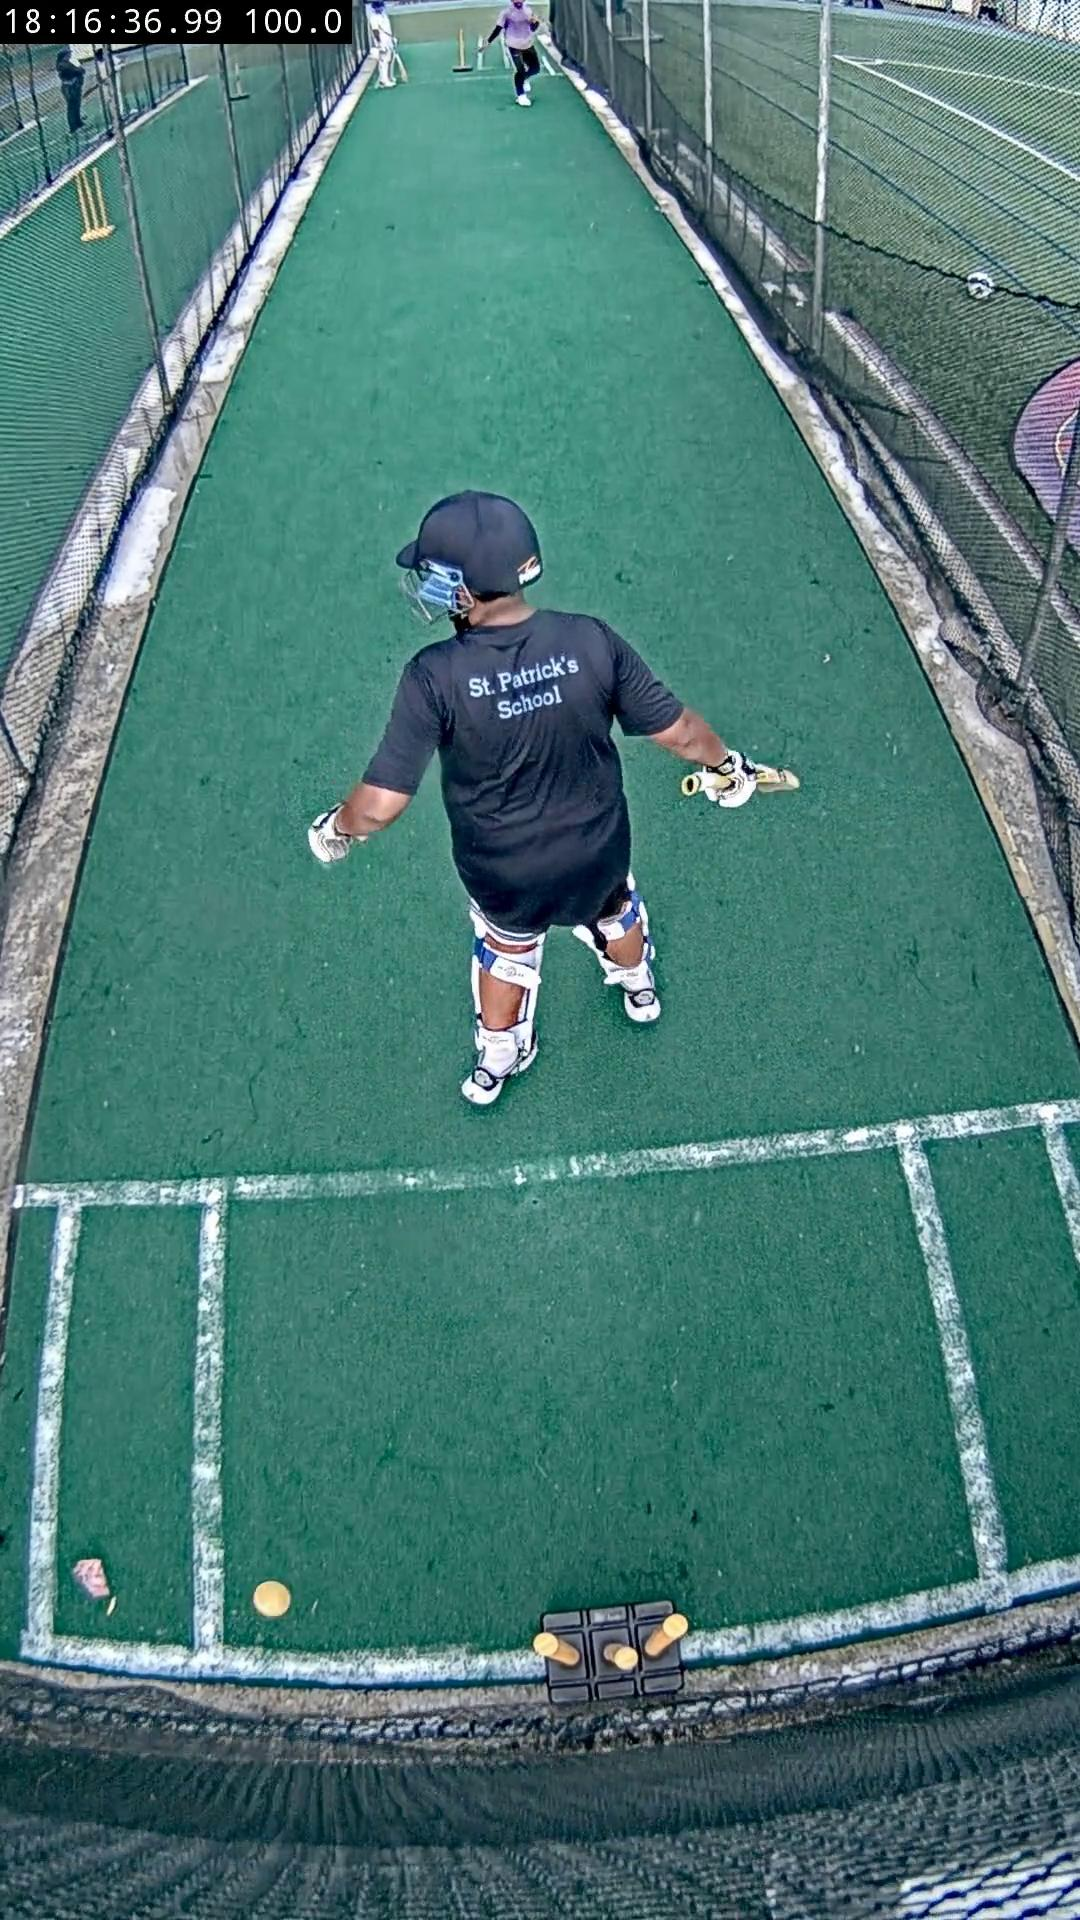ball: (252, 1578, 293, 1617)
bat: (754, 765, 799, 791)
gloves: (683, 750, 757, 808), (307, 806, 352, 862)
helmet: (397, 492, 541, 596)
stumps: (537, 1601, 686, 1702)
